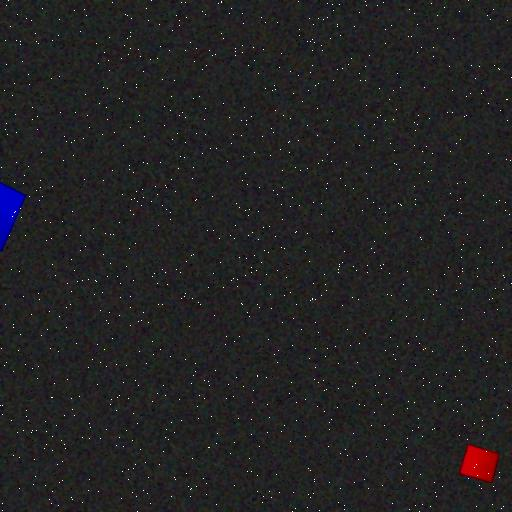BLUE_SQUARE: (0, 163, 26, 252)
RED_SQUARE: (458, 443, 500, 483)
